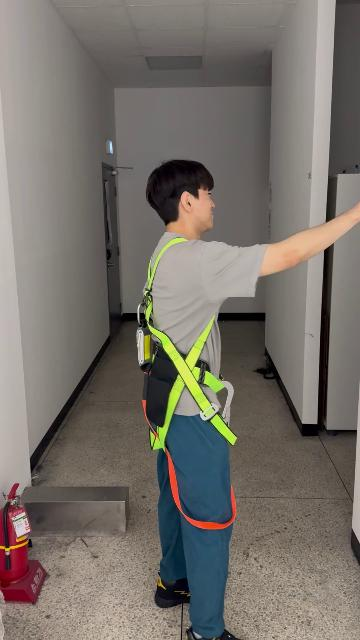helmet_not_worn: (142, 158, 219, 231)
shoe_worn: (154, 575, 191, 609), (188, 625, 244, 640)
vest_worn: (135, 247, 241, 522)
